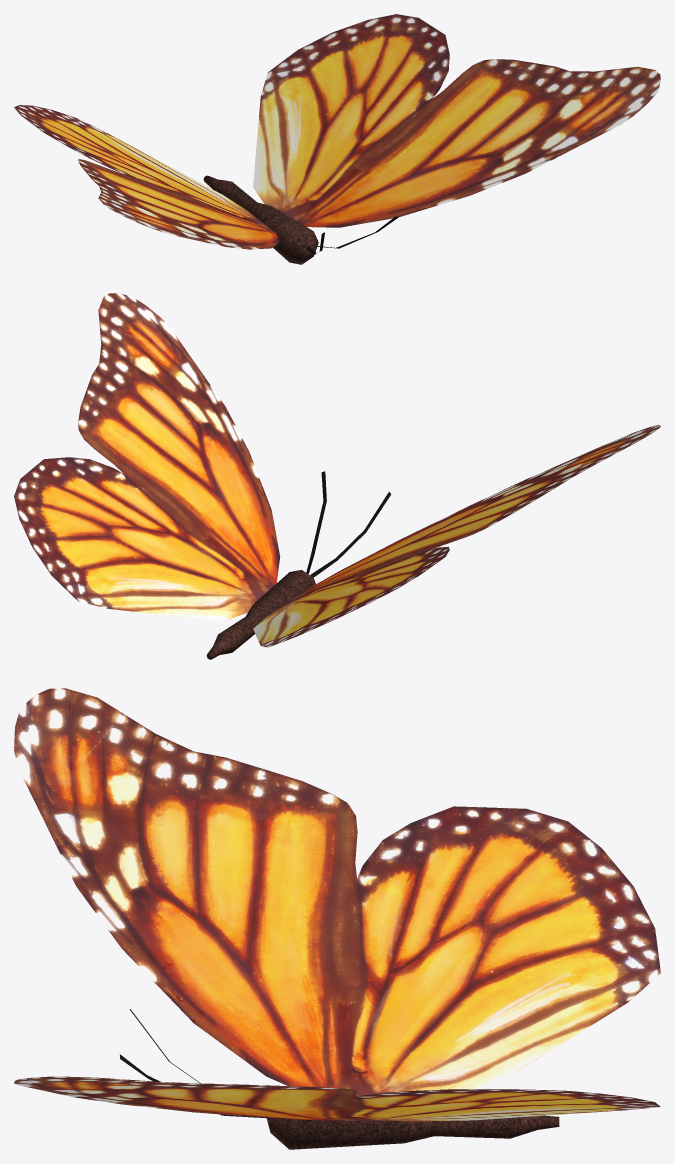
Rendered from Butterfly.FBX.
3 views of the same model, one above another, from view 1: azimuth 30°, elevation 25°; view 2: azimuth 150°, elevation 25°; view 3: azimuth 270°, elevation 25° (orthographic). The views are drawn at different scales.
Visible parts, largest first — view 1: Butterfly; view 2: Butterfly; view 3: Butterfly.
Boxes of the visible parts, x1,y1,x2,y2 form: Butterfly: (14,14,660,264); Butterfly: (14,293,660,659); Butterfly: (14,688,660,1149).
Size of the model in its own units: 220337 by 70457 by 155077.
Materials: 1 (1 with a texture image).
